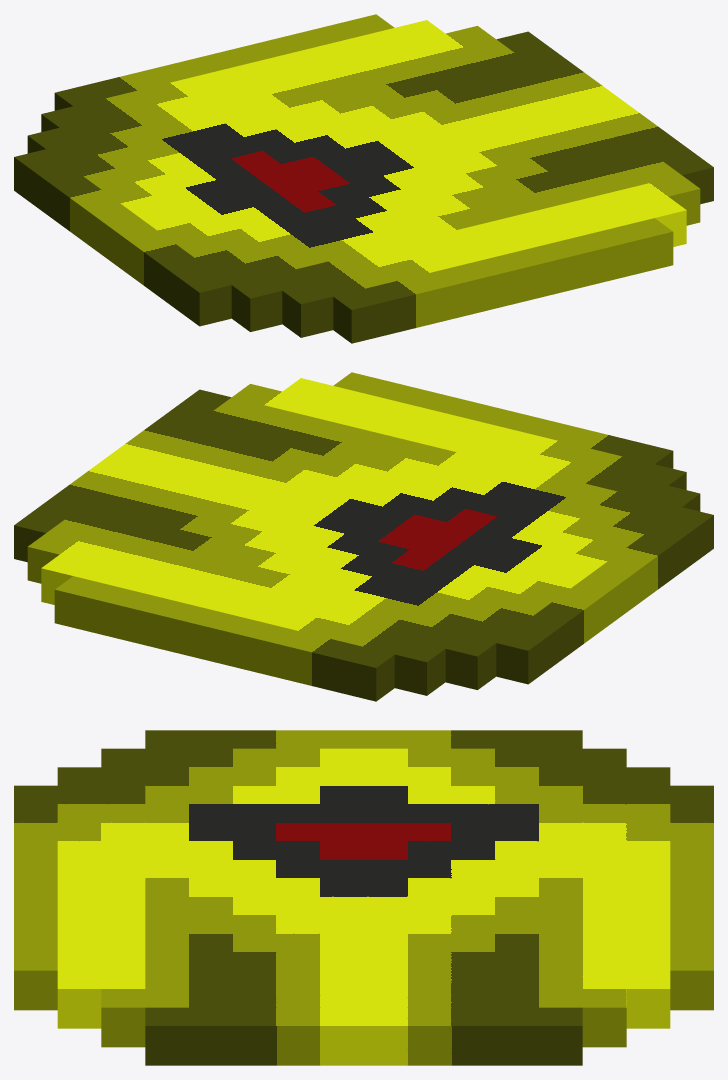
Rendered from MoneyCoinGOLD.glb.
3 views of the same model, one above another, from view 1: azimuth 30°, elevation 25°; view 2: azimuth 150°, elevation 25°; view 3: azimuth 270°, elevation 25° (orthographic). The views are drawn at different scales.
Visible parts, largest first — view 1: Untitled; view 2: Untitled; view 3: Untitled.
Part boxes in pixels (box(x1,y1,x2,y2)): Untitled: box(14, 14, 713, 343); Untitled: box(14, 372, 713, 701); Untitled: box(14, 730, 713, 1065).
Size of the model in its own units: 1.6 by 0.1 by 1.6.
1 material, 1 textured.
